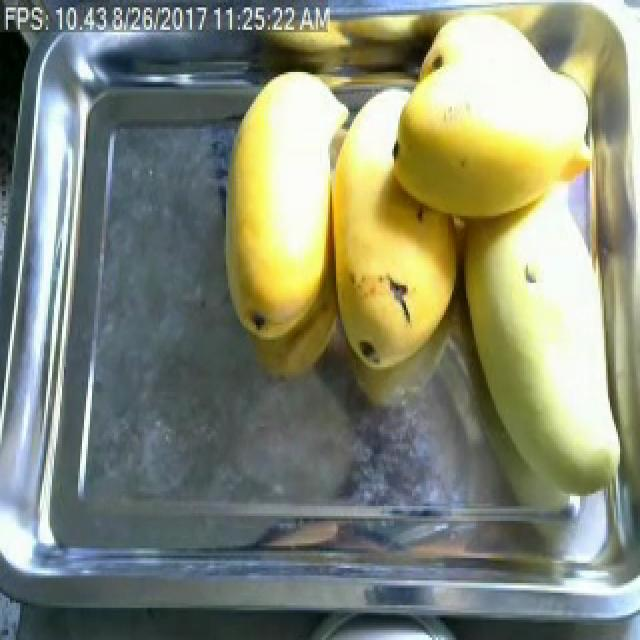fruit: (450, 201, 604, 516), (328, 72, 476, 384), (376, 74, 610, 236), (212, 65, 342, 352)
